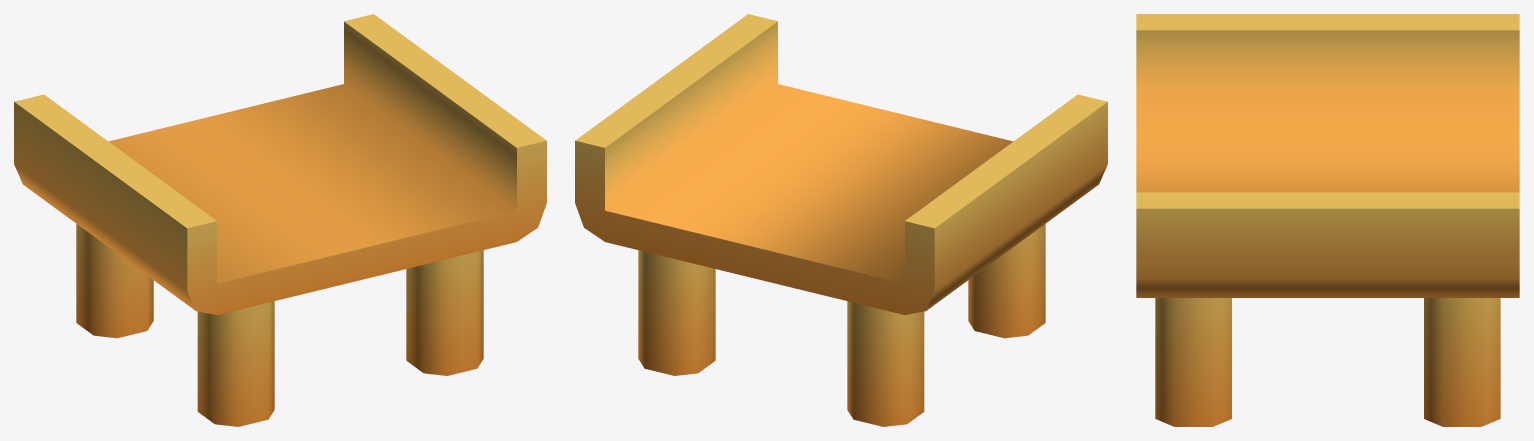
The model's file is kenney-marble-support-color-four-top.glb.
The picture shows the model from 3 angles, left to right: view 1: azimuth 30°, elevation 25°; view 2: azimuth 150°, elevation 25°; view 3: azimuth 270°, elevation 25°; orthographic projection. The views are drawn at different scales.
Parts seen in each view (by area): view 1: support-color-four-top; view 2: support-color-four-top; view 3: support-color-four-top.
Boxes of the visible parts, box(x1,y1,x2,y2) form: support-color-four-top: box(14, 14, 546, 426); support-color-four-top: box(575, 14, 1107, 426); support-color-four-top: box(1136, 14, 1519, 426).
Size of the model in its own units: 1.2 by 0.7 by 1.
1 material, 1 textured.
